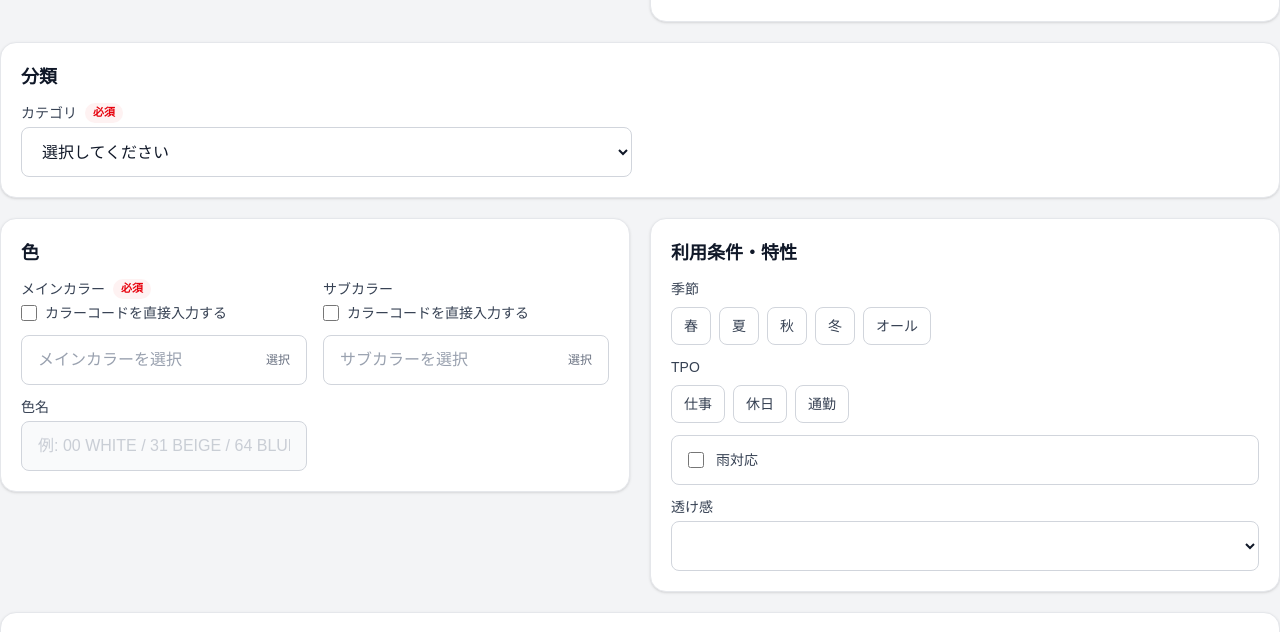
購入検討フォーム › プリセット色からカスタムカラーへ切り替えると直前の色を引き継ぐ
This screenshot has width=1280, height=632.
(page scrolled)
Click the button "メインカラーを選択 選択": point(164, 360) [21,335,307,385]
(page scrolled)
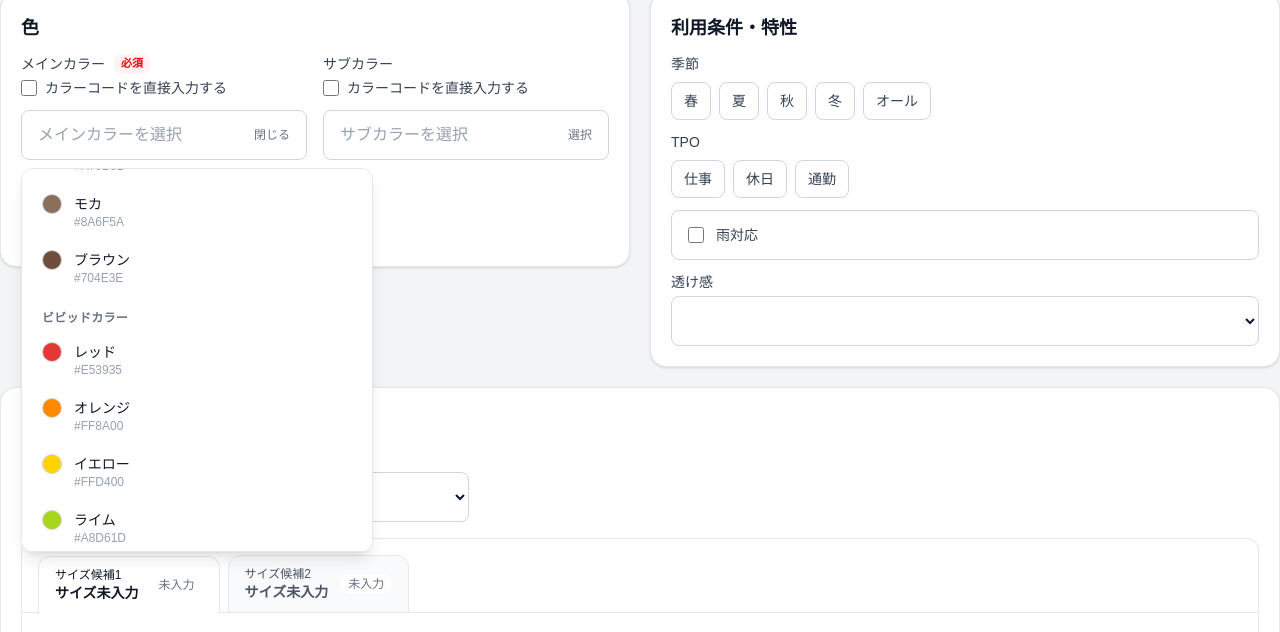
Expected: the button "レッド #E53935" is shown
Click the button "レッド #E53935": point(95, 352) [30,334,364,386]
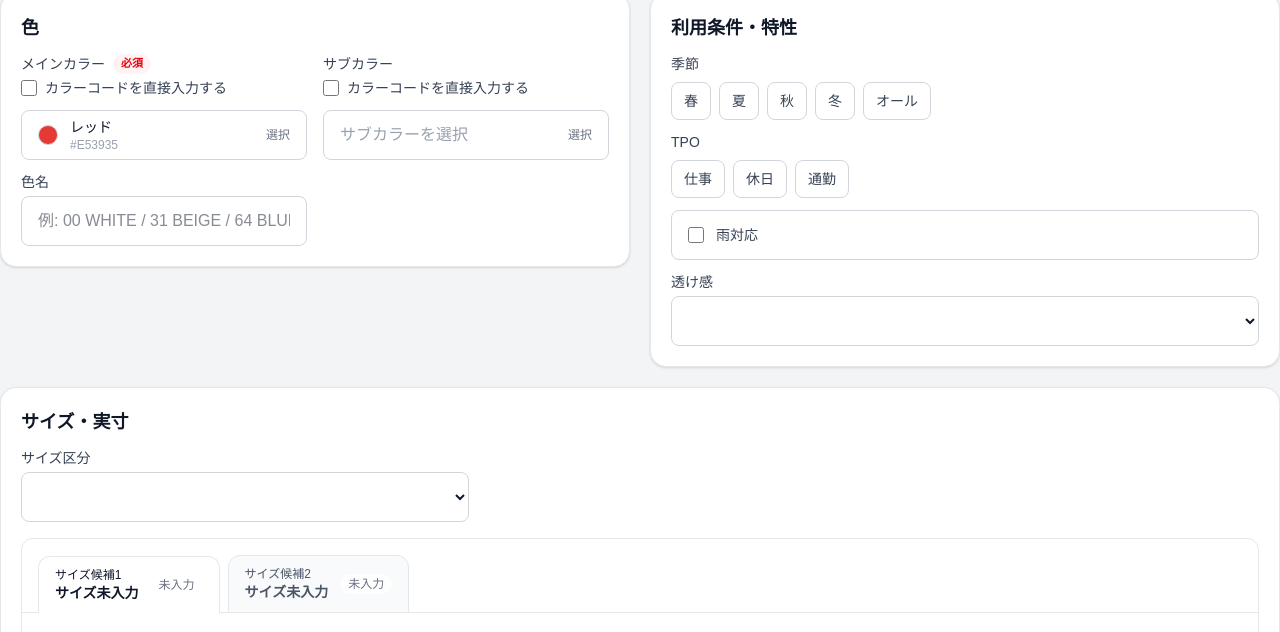
Click the checkbox named "メインカラーをカラーコードで入力": point(29, 88) [21,80,37,96]
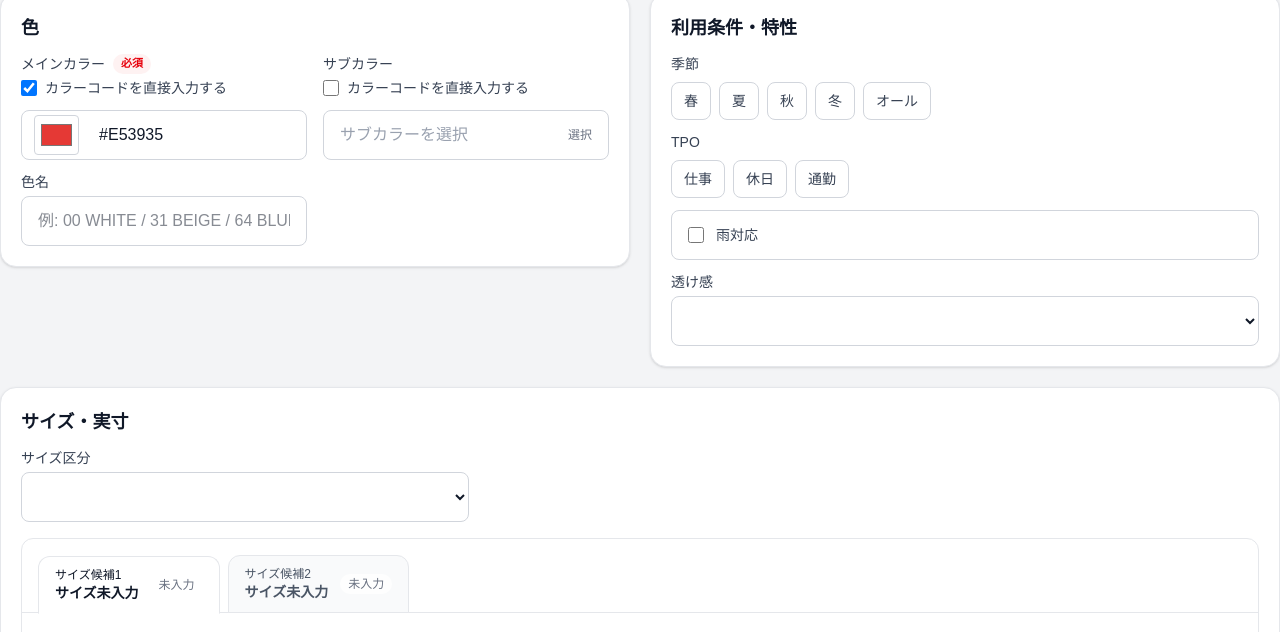
Expected: the field named "メインカラーコード" holds "#E53935", [91,123,290,147]
